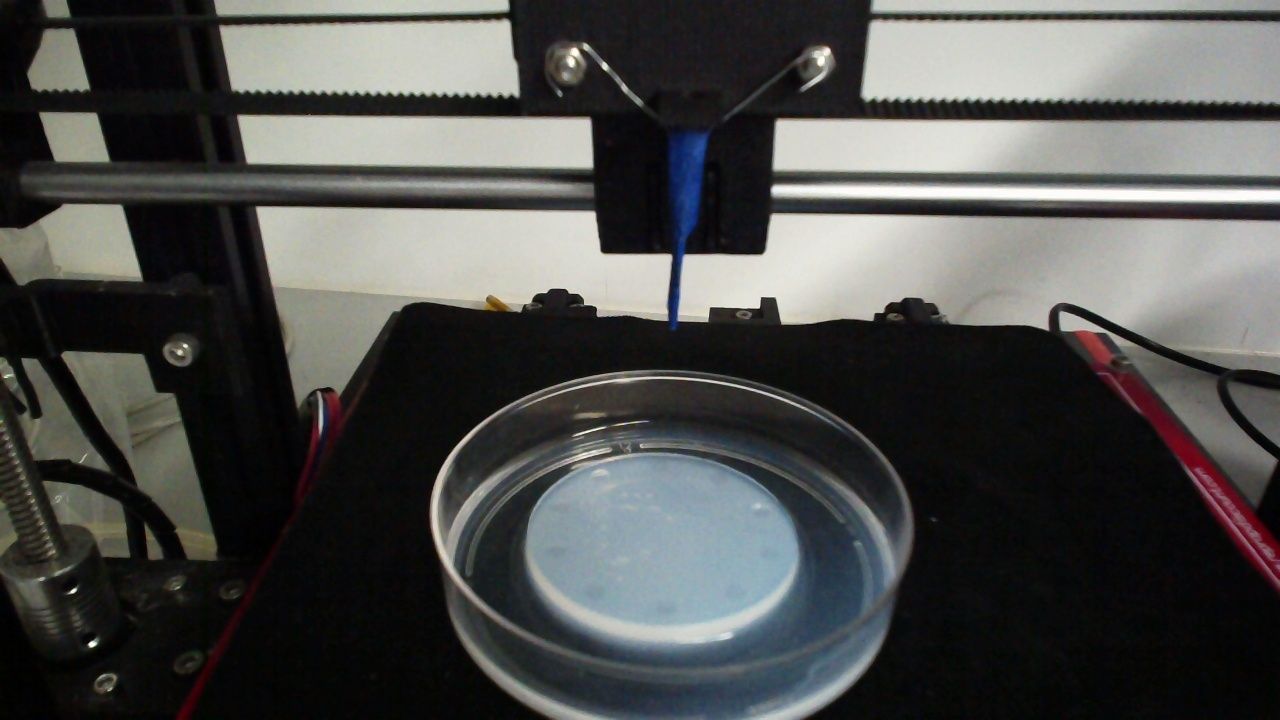groove: (584, 581, 606, 603), (722, 584, 746, 602), (546, 498, 571, 515), (748, 502, 773, 519), (757, 545, 781, 562), (543, 542, 566, 559), (708, 471, 731, 488), (589, 466, 610, 483), (650, 460, 672, 476), (654, 602, 678, 616)
needle: (665, 132, 706, 330)
